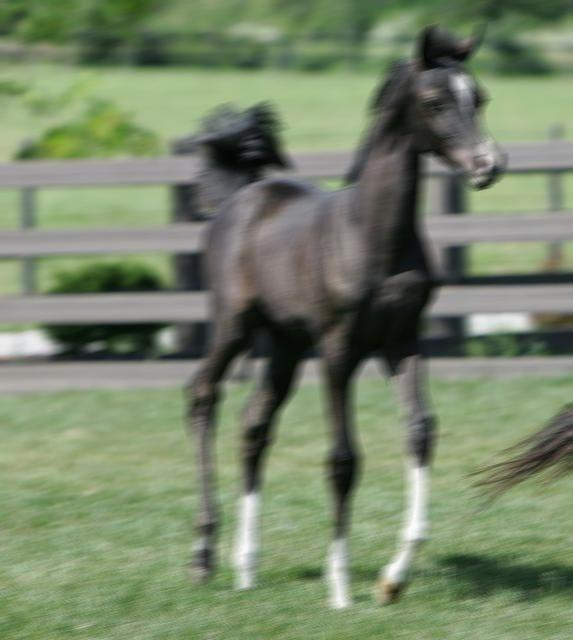horse: (183, 21, 504, 611)
